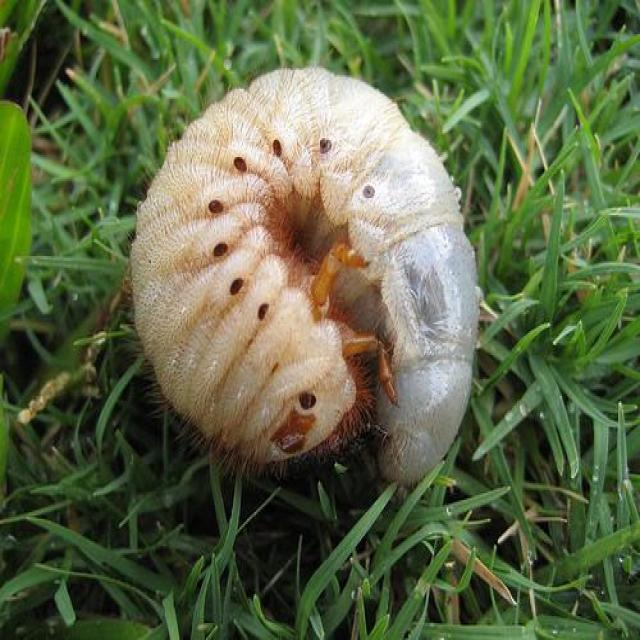Grub-Adult-: (96, 51, 522, 540)
